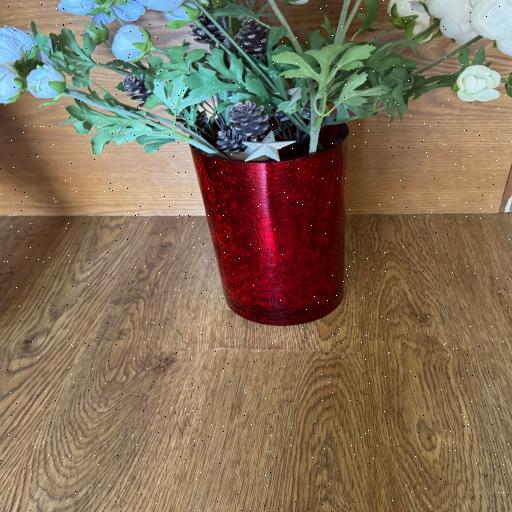Plant Pot: (192, 102, 350, 324)
